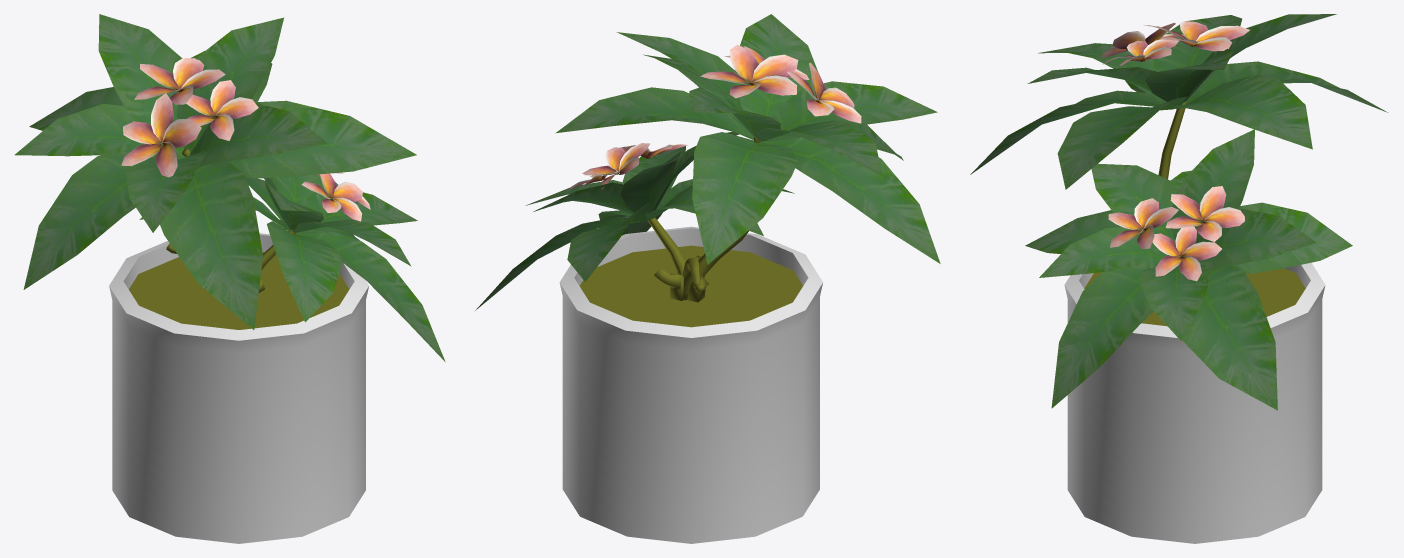
File: sketchfab-potted-plant-mediterranean-flowering-low-poly.fac81565.glb
3 renders of one model, left to right at view 1: azimuth 30°, elevation 25°; view 2: azimuth 150°, elevation 25°; view 3: azimuth 270°, elevation 25°, orthographic.
Parts seen in each view (by area): view 1: Object_5, Object_4, Object_6, Object_3; view 2: Object_4, Object_5, Object_3, Object_6, Object_2; view 3: Object_5, Object_4, Object_6, Object_3, Object_2.
Boxes of the visible parts, box(x1,y1,x2,y2) form: Object_5: box(15, 14, 445, 361); Object_4: box(109, 233, 368, 543); Object_6: box(121, 58, 370, 221); Object_3: box(129, 252, 349, 329); Object_4: box(559, 226, 822, 543); Object_5: box(475, 14, 940, 310); Object_3: box(579, 245, 802, 327); Object_6: box(569, 44, 861, 189); Object_2: box(648, 137, 760, 302); Object_5: box(970, 14, 1388, 410); Object_4: box(1064, 262, 1325, 543); Object_6: box(1101, 21, 1249, 281); Object_3: box(1084, 268, 1305, 325); Object_2: box(1158, 101, 1185, 257).
Bounding box in the file's own units: 0.8408 × 0.9115 × 0.7551.
4 materials, 2 textured.
